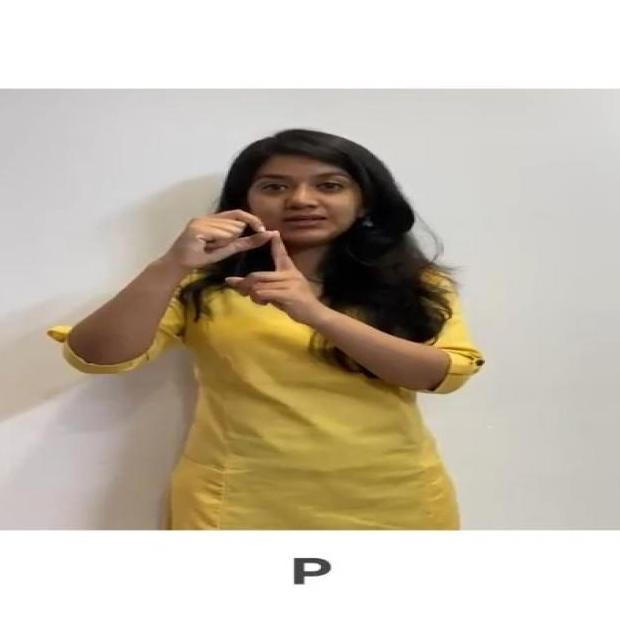O: (154, 206, 328, 333)
